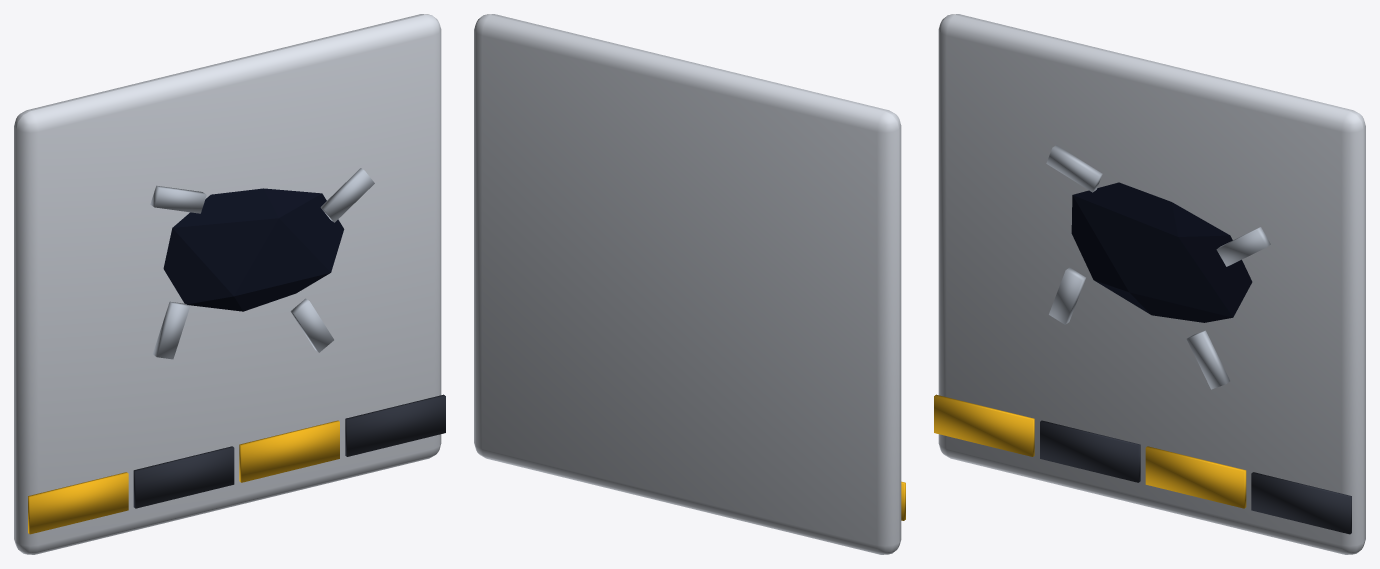
The model's file is Incident_HullBreach.glb.
3 renders of one model, left to right at view 1: azimuth 30°, elevation 25°; view 2: azimuth 150°, elevation 25°; view 3: azimuth 330°, elevation 25°, orthographic.
Parts seen in each view (by area): view 1: Incident_HullBreach.Panel, Incident_HullBreach.Hole, Incident_HullBreach.Hazard1, Incident_HullBreach.Hazard2, Incident_HullBreach.Hazard0, Incident_HullBreach.Hazard3, Incident_HullBreach.Shard3, Incident_HullBreach.Shard1, Incident_HullBreach.Shard0, Incident_HullBreach.Shard2; view 2: Incident_HullBreach.Panel; view 3: Incident_HullBreach.Panel, Incident_HullBreach.Hole, Incident_HullBreach.Hazard2, Incident_HullBreach.Hazard1, Incident_HullBreach.Hazard3, Incident_HullBreach.Hazard0, Incident_HullBreach.Shard2, Incident_HullBreach.Shard0, Incident_HullBreach.Shard3, Incident_HullBreach.Shard1.
Part boxes in pixels (<box>): Incident_HullBreach.Panel: <box>14,14,441,554</box>; Incident_HullBreach.Hole: <box>163,188,344,311</box>; Incident_HullBreach.Hazard1: <box>133,446,234,508</box>; Incident_HullBreach.Hazard2: <box>239,420,339,482</box>; Incident_HullBreach.Hazard0: <box>28,472,128,534</box>; Incident_HullBreach.Hazard3: <box>345,394,445,456</box>; Incident_HullBreach.Shard3: <box>153,301,189,359</box>; Incident_HullBreach.Shard1: <box>320,168,374,222</box>; Incident_HullBreach.Shard0: <box>150,185,206,213</box>; Incident_HullBreach.Shard2: <box>290,298,333,352</box>; Incident_HullBreach.Panel: <box>474,14,901,554</box>; Incident_HullBreach.Panel: <box>938,14,1365,554</box>; Incident_HullBreach.Hole: <box>1071,182,1252,322</box>; Incident_HullBreach.Hazard2: <box>1145,446,1246,508</box>; Incident_HullBreach.Hazard1: <box>1040,420,1140,482</box>; Incident_HullBreach.Hazard3: <box>1251,472,1351,534</box>; Incident_HullBreach.Hazard0: <box>934,394,1034,456</box>; Incident_HullBreach.Shard2: <box>1186,330,1229,389</box>; Incident_HullBreach.Shard0: <box>1046,145,1102,192</box>; Incident_HullBreach.Shard3: <box>1049,267,1085,324</box>; Incident_HullBreach.Shard1: <box>1216,227,1270,266</box>.
Bounding box in the file's own units: 1.2 × 1.2 × 0.12.
